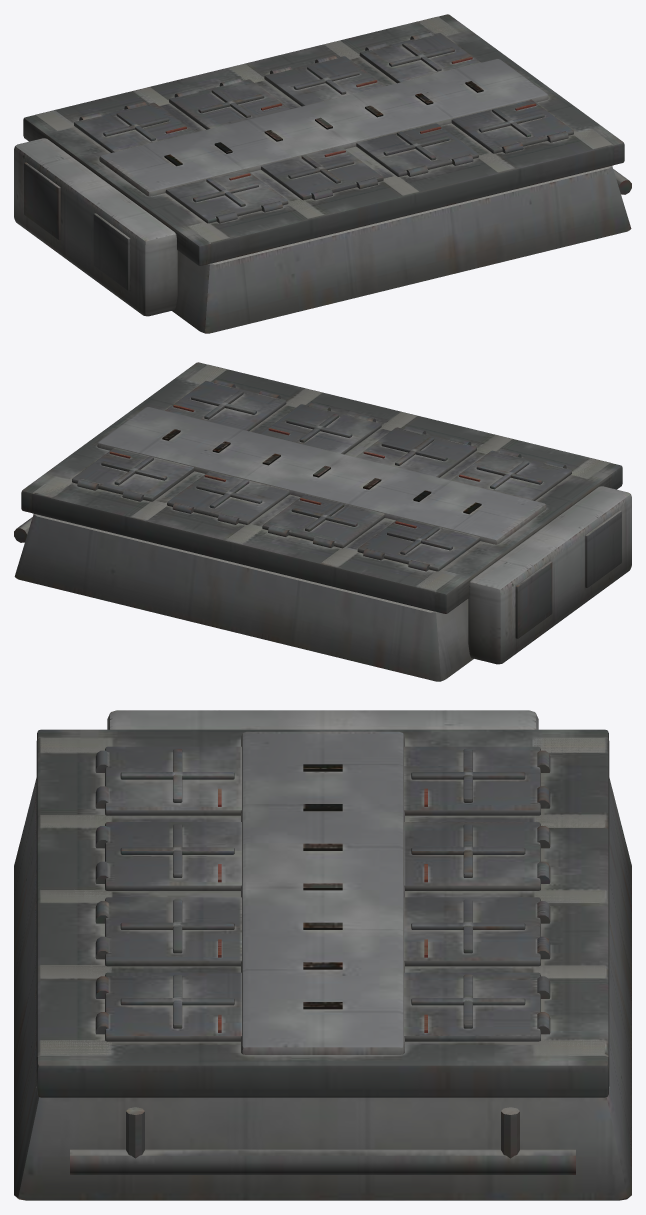
Rendered from fh_battle_e_lev_launcher.glb.
The picture shows the model from 3 angles, top to bottom: view 1: azimuth 30°, elevation 25°; view 2: azimuth 150°, elevation 25°; view 3: azimuth 270°, elevation 25°; orthographic projection. The views are drawn at different scales.
Parts seen in each view (by area): view 1: launcher, lid_6, lid_5, lid_4, lid_7, lid_2, lid_1, lid_3, lid_0; view 2: launcher, lid_2, lid_0, lid_3, lid_1, lid_5, lid_6, lid_7, lid_4; view 3: launcher, lid_2, lid_6, lid_3, lid_7, lid_0, lid_4, lid_1, lid_5.
Part boxes in pixels (box(x1,y1,x2,y2)): launcher: box(14, 14, 631, 333); lid_6: box(356, 123, 478, 176); lid_5: box(261, 146, 383, 200); lid_4: box(165, 169, 288, 223); lid_7: box(451, 100, 573, 153); lid_2: box(264, 55, 385, 106); lid_1: box(169, 78, 289, 129); lid_3: box(359, 32, 480, 83); lid_0: box(74, 101, 194, 152); launcher: box(14, 362, 631, 681); lid_2: box(167, 471, 289, 524); lid_0: box(357, 517, 480, 571); lid_3: box(72, 448, 194, 501); lid_1: box(262, 494, 384, 548); lid_5: box(356, 426, 476, 477); lid_6: box(260, 403, 381, 454); lid_7: box(165, 380, 286, 431); lid_4: box(451, 449, 571, 500); launcher: box(14, 710, 631, 1200); lid_2: box(404, 897, 550, 966); lid_6: box(95, 897, 241, 966); lid_3: box(404, 972, 550, 1041); lid_7: box(95, 972, 241, 1041); lid_0: box(404, 746, 550, 815); lid_4: box(95, 746, 241, 815); lid_1: box(404, 822, 550, 890); lid_5: box(95, 822, 241, 890).
Bounding box in the file's own units: 0.9533 × 0.173 × 0.6591.
1 material, 1 textured.
